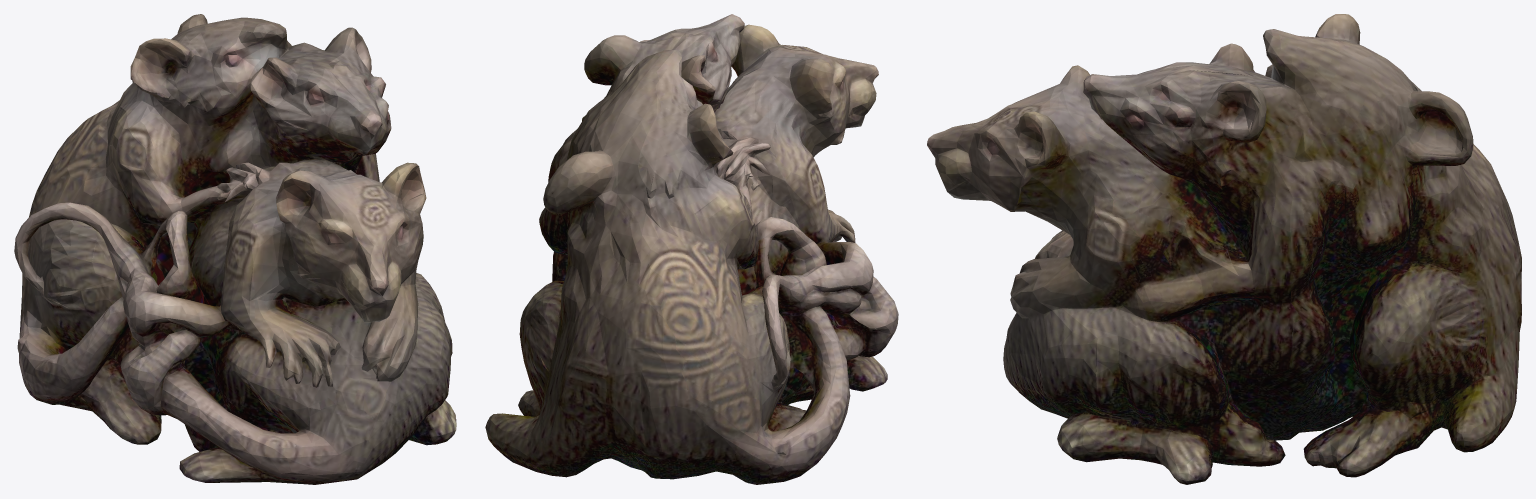
The model's file is cellarRatKing.glb.
The picture shows the model from 3 angles, left to right: view 1: azimuth 30°, elevation 25°; view 2: azimuth 150°, elevation 25°; view 3: azimuth 270°, elevation 25°; orthographic projection. The views are drawn at different scales.
Visible parts, largest first — view 1: world; view 2: world; view 3: world.
Part boxes in pixels (<box>): world: <box>14,14,456,484</box>; world: <box>485,14,898,484</box>; world: <box>927,14,1521,484</box>.
Size of the model in its own units: 0.5994 by 0.6425 by 0.8728.
1 material, 1 textured.
